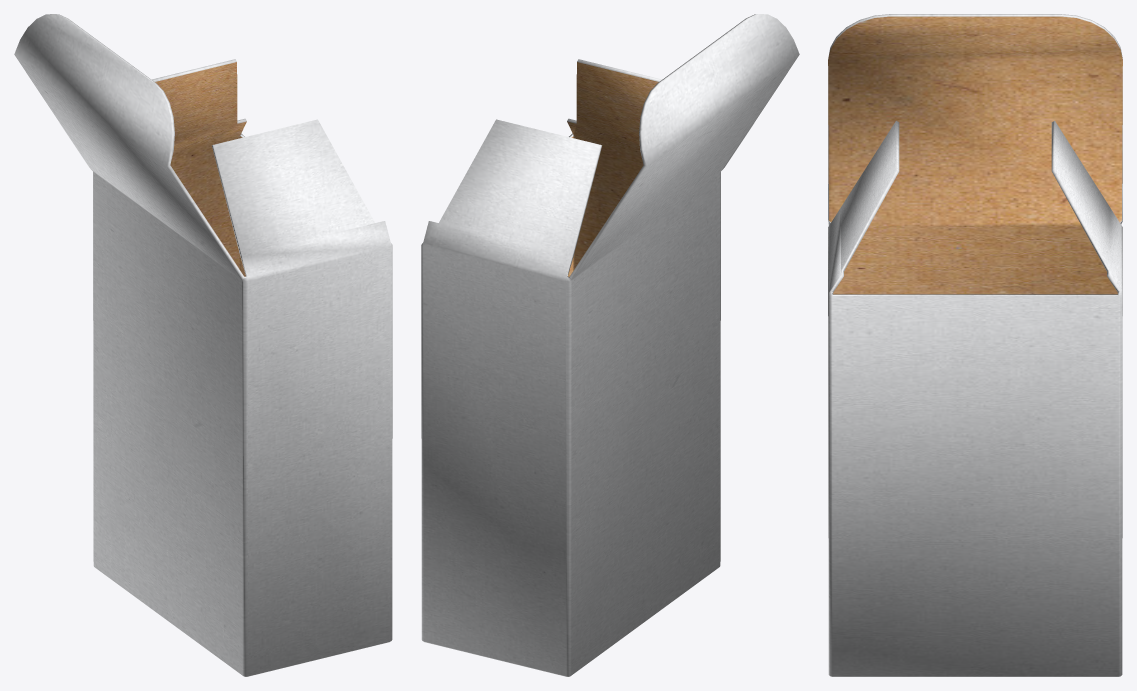
File: squareBox2.glb
3 views of the same model, side by side, from view 1: azimuth 30°, elevation 25°; view 2: azimuth 150°, elevation 25°; view 3: azimuth 270°, elevation 25° (orthographic). The views are drawn at different scales.
Parts seen in each view (by area): view 1: Box4; view 2: Box4; view 3: Box4.
Part boxes in pixels (<box>): Box4: <box>14,14,392,676</box>; Box4: <box>421,14,799,676</box>; Box4: <box>828,14,1122,676</box>.
Bounding box in the file's own units: 1.05 × 2.59 × 1.22.
2 materials, 2 textured.
